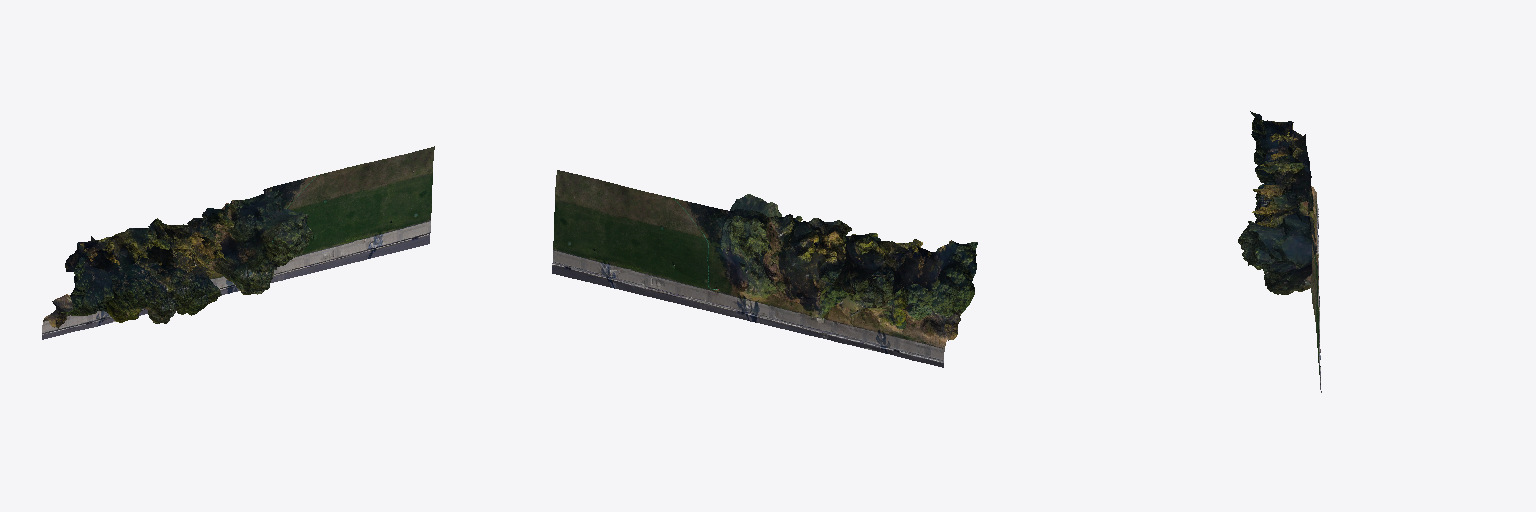
The picture shows the model from 3 angles: view 1: azimuth 30°, elevation 25°; view 2: azimuth 150°, elevation 25°; view 3: azimuth 270°, elevation 25°; orthographic projection.
Size of the model in its own units: 100 by 24.76 by 18.82.
1 materials, 1 textured.